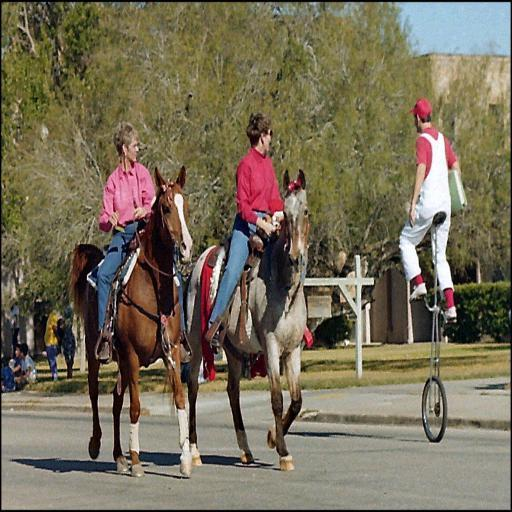horse: (70, 166, 196, 478), (184, 166, 310, 472)
